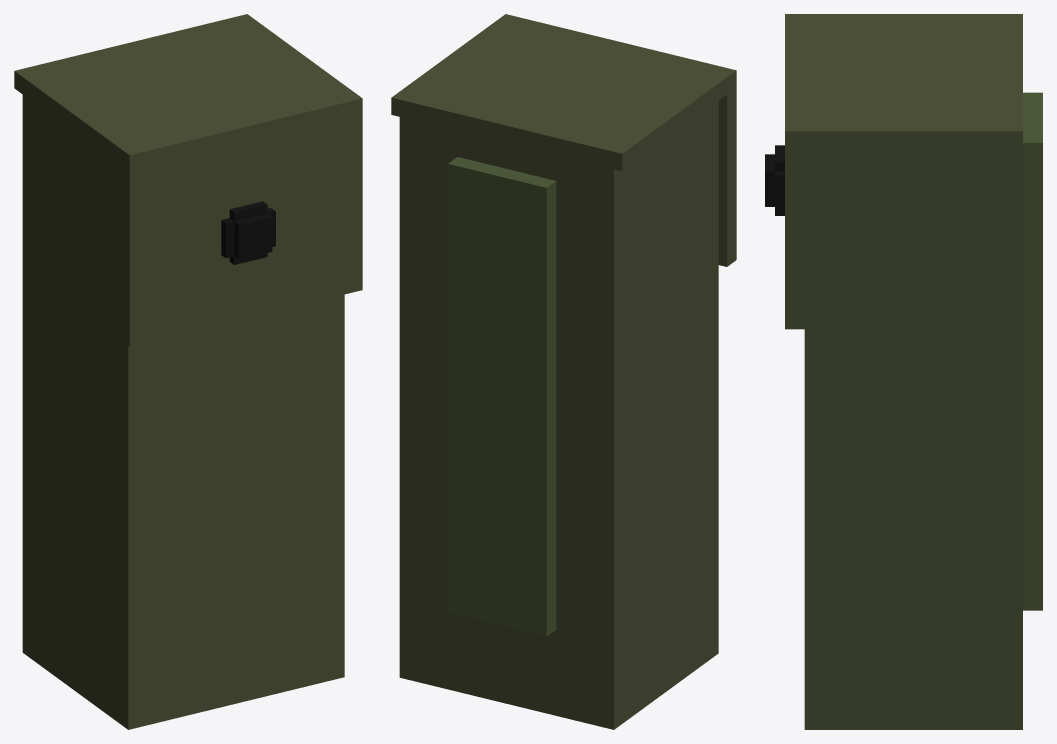
File: flashlight_pouch.glb
The picture shows the model from 3 angles, left to right: view 1: azimuth 30°, elevation 25°; view 2: azimuth 150°, elevation 25°; view 3: azimuth 270°, elevation 25°; orthographic projection. The views are drawn at different scales.
Parts seen in each view (by area): view 1: flashlight_pouch:compound; view 2: flashlight_pouch:compound; view 3: flashlight_pouch:compound.
Part boxes in pixels (<box>): flashlight_pouch:compound: <box>14,14,362,729</box>; flashlight_pouch:compound: <box>391,14,736,729</box>; flashlight_pouch:compound: <box>765,14,1042,729</box>.
Size of the model in its own units: 0.056 by 0.134 by 0.056.
